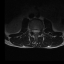CCS_normal: (35, 28, 37, 35)
LFS_normal: (39, 28, 41, 33)
LLS_normal: (37, 28, 38, 34)
RFS_normal: (31, 28, 33, 33)
RLS_normal: (33, 28, 35, 34)
